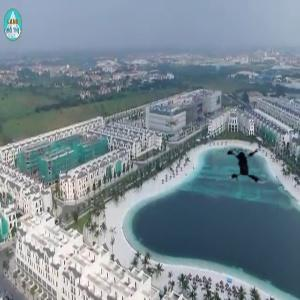drone: (217, 131, 281, 195)
